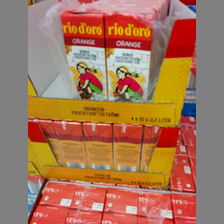juice: (105, 10, 155, 101), (60, 8, 106, 100)
